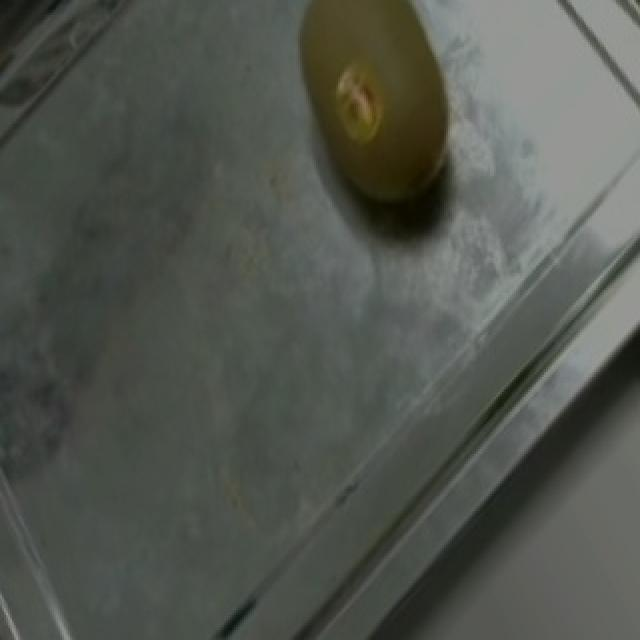Fruit: (254, 0, 496, 256)
